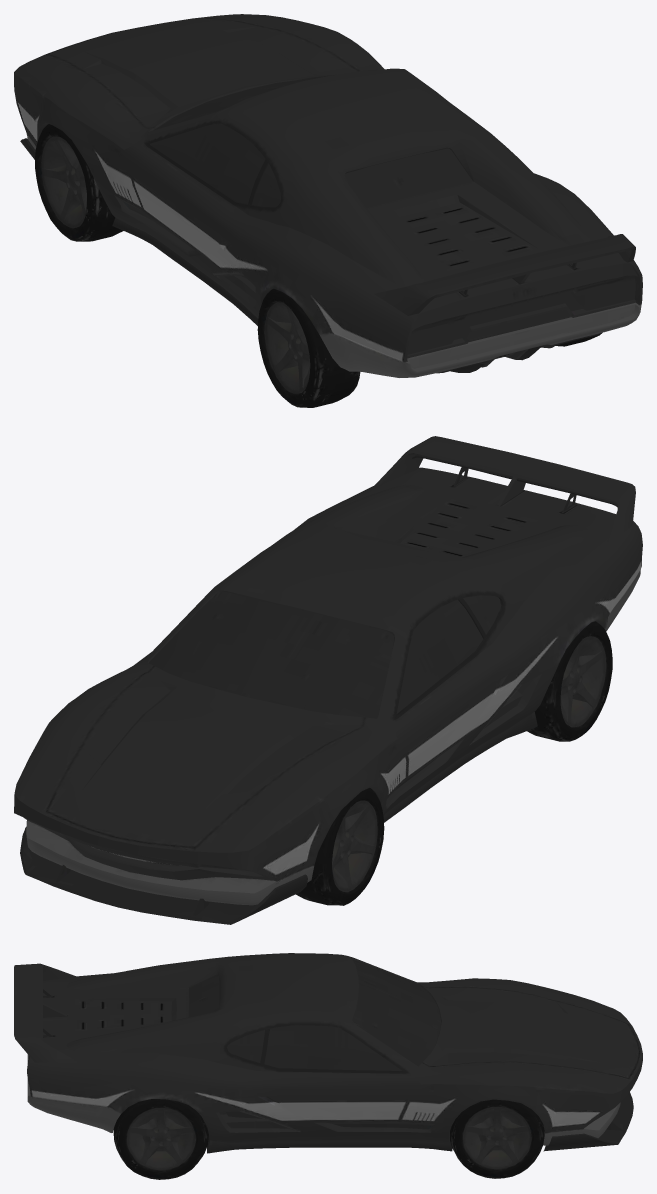
Rendered from cyberpunk-car.glb.
3 renders of one model, top to bottom at view 1: azimuth 30°, elevation 25°; view 2: azimuth 150°, elevation 25°; view 3: azimuth 270°, elevation 25°, orthographic. The views are drawn at different scales.
Visible parts, largest first — view 1: cb_car_export_cb_car_0; view 2: cb_car_export_cb_car_0; view 3: cb_car_export_cb_car_0.
Part boxes in pixels (left/top/right/bottom): cb_car_export_cb_car_0: left=14, top=14, right=642, bottom=407; cb_car_export_cb_car_0: left=14, top=436, right=642, bottom=924; cb_car_export_cb_car_0: left=14, top=953, right=642, bottom=1179.
Bounding box in the file's own units: 222 × 141 × 541.
Materials: 1 (1 with a texture image).
